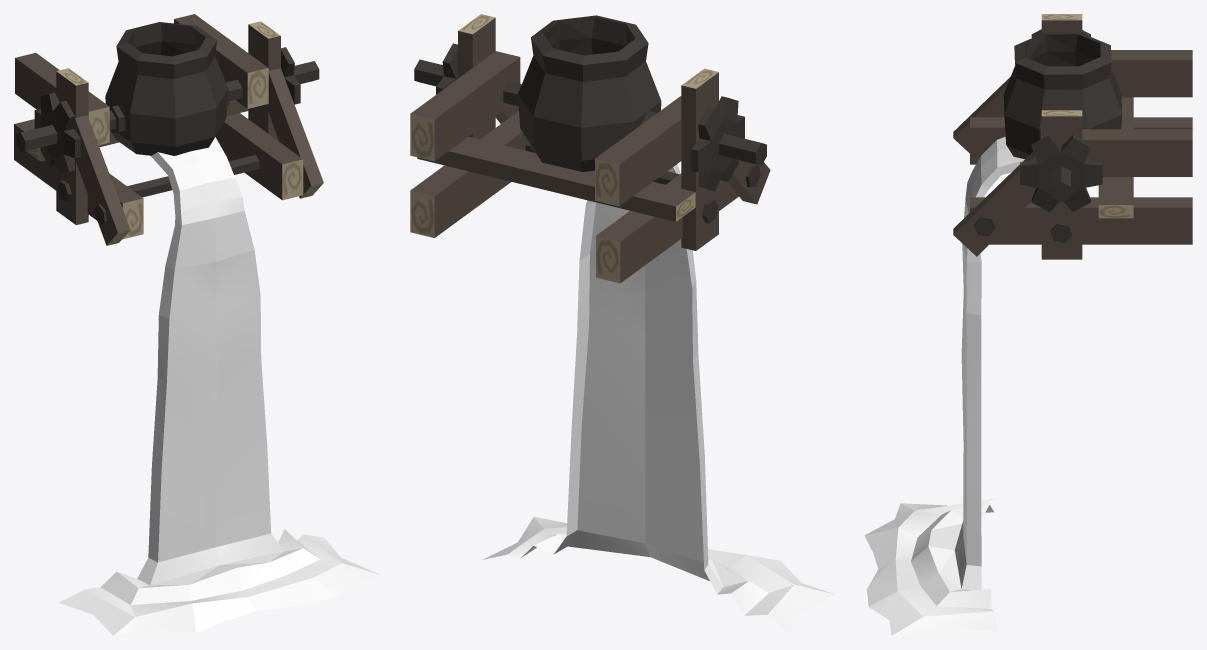
File: acidTrap.fbx
3 views of the same model, side by side, from view 1: azimuth 30°, elevation 25°; view 2: azimuth 150°, elevation 25°; view 3: azimuth 270°, elevation 25° (orthographic). The views are drawn at different scales.
Parts seen in each view (by area): view 1: acidTrapAcid, acidTrap, acidTrapBucket; view 2: acidTrapAcid, acidTrap, acidTrapBucket; view 3: acidTrap, acidTrapAcid, acidTrapBucket.
Boxes of the visible parts, box(x1,y1,x2,y2) form: acidTrapAcid: box(59, 137, 381, 635); acidTrap: box(14, 14, 323, 245); acidTrapBucket: box(15, 22, 319, 174); acidTrapAcid: box(482, 164, 835, 635); acidTrap: box(410, 14, 770, 283); acidTrapBucket: box(414, 15, 766, 191); acidTrap: box(953, 14, 1192, 259); acidTrapAcid: box(864, 136, 1024, 635); acidTrapBucket: box(1003, 29, 1122, 211).
Bounding box in the file's own units: 3.42 × 5.64 × 3.23.
3 materials, 3 textured.
